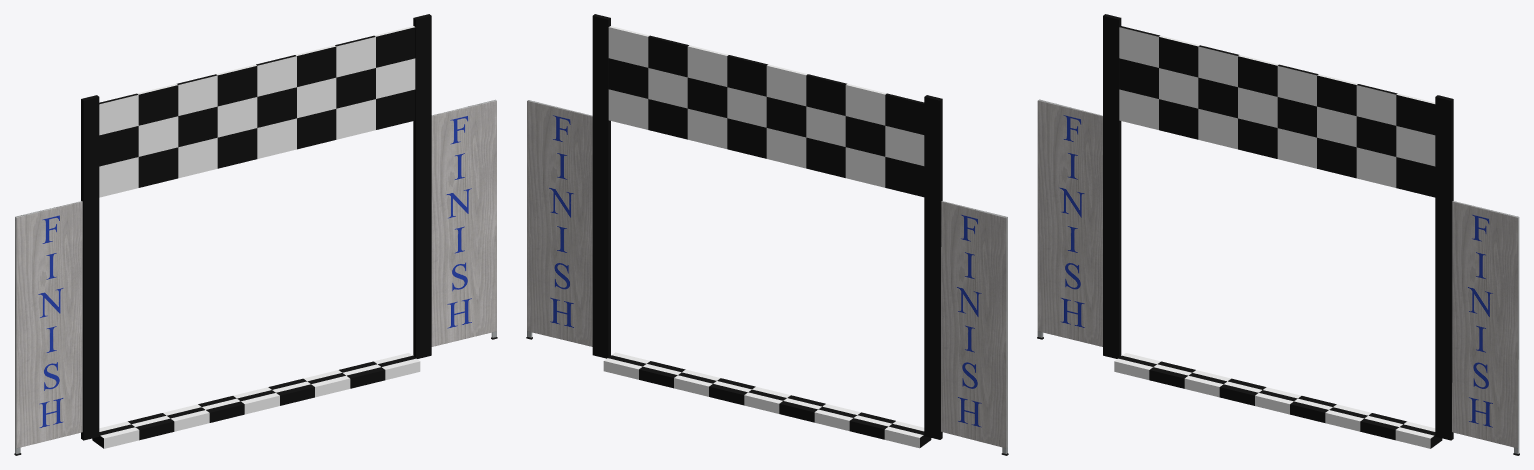
Rendered from Finish.glb.
The picture shows the model from 3 angles, left to right: view 1: azimuth 30°, elevation 25°; view 2: azimuth 150°, elevation 25°; view 3: azimuth 330°, elevation 25°; orthographic projection.
Parts seen in each view (by area): view 1: Cube_Material_0, StandEvery3DEngFold_EnglishText_0.003, Cube_Material.001_0, StandEvery3DEngFold_EnglishText_0.001, Cube.002_Material_0, Cube.001_Material.001_0, Cube.001_Material_0, StandEvery3DEngFold_EnglishText_0.002; view 2: Cube_Material.001_0, Cube_Material_0, StandEvery3DEngFold_EnglishText_0.002, StandEvery3DEngFold_EnglishText_0.004, Cube.002_Material_0, Cube.001_Material.001_0, Cube.001_Material_0, StandEvery3DEngFold_EnglishText_0.003; view 3: Cube_Material.001_0, Cube_Material_0, StandEvery3DEngFold_EnglishText_0.001, StandEvery3DEngFold_EnglishText_0.003, Cube.002_Material_0, Cube.001_Material.001_0, Cube.001_Material_0, StandEvery3DEngFold_EnglishText_0.004.
Boxes of the visible parts, x1,y1,x2,y2 form: Cube_Material_0: (99,27,415,187); StandEvery3DEngFold_EnglishText_0.003: (15,201,82,455); Cube_Material.001_0: (99,26,415,197); StandEvery3DEngFold_EnglishText_0.001: (431,100,497,346); Cube.002_Material_0: (81,14,431,440); Cube.001_Material.001_0: (99,353,420,448); Cube.001_Material_0: (92,355,416,448); StandEvery3DEngFold_EnglishText_0.002: (14,201,82,454); Cube_Material.001_0: (608,26,924,187); Cube_Material_0: (608,35,924,197); StandEvery3DEngFold_EnglishText_0.002: (941,201,1007,455); StandEvery3DEngFold_EnglishText_0.004: (526,100,592,346); Cube.002_Material_0: (592,14,942,439); Cube.001_Material.001_0: (603,352,924,448); Cube.001_Material_0: (608,355,931,447); StandEvery3DEngFold_EnglishText_0.003: (941,201,1008,454); Cube_Material.001_0: (1119,27,1435,187); Cube_Material_0: (1119,26,1435,197); StandEvery3DEngFold_EnglishText_0.001: (1452,201,1519,455); StandEvery3DEngFold_EnglishText_0.003: (1037,100,1102,346); Cube.002_Material_0: (1103,14,1453,440); Cube.001_Material.001_0: (1114,353,1435,448); Cube.001_Material_0: (1118,355,1442,448); StandEvery3DEngFold_EnglishText_0.004: (1453,201,1519,454).
Size of the model in its own units: 34.01 by 23.52 by 1.43.
Materials: 6 (4 with a texture image).
